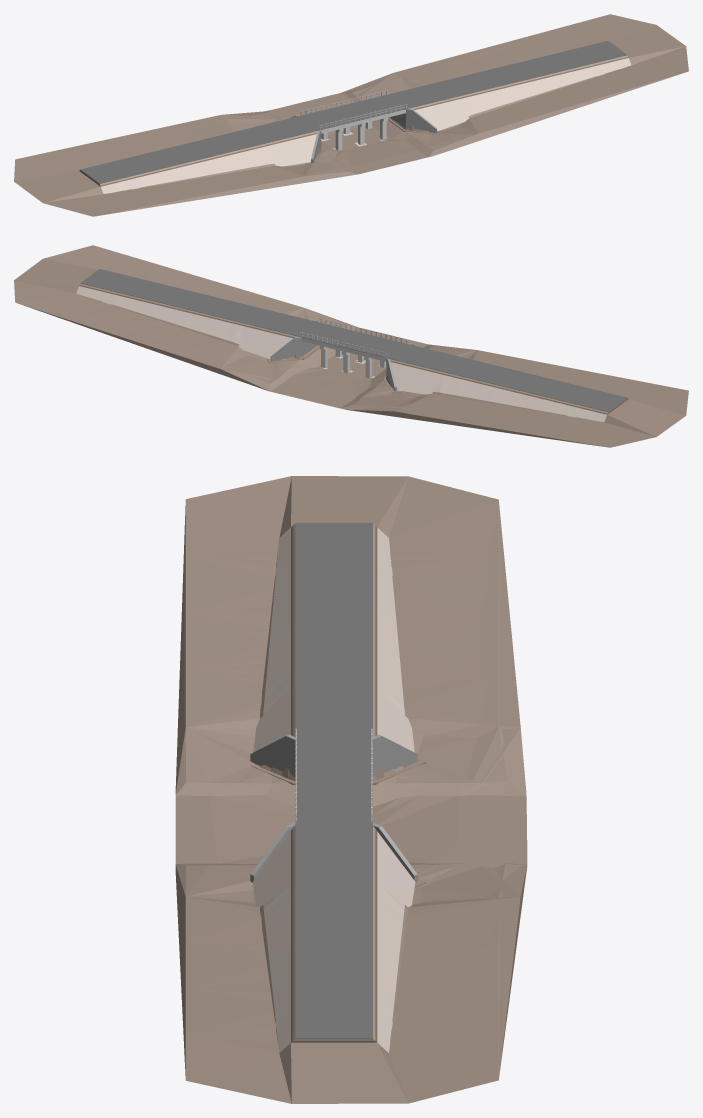
Rendered from bridge.glb.
3 renders of one model, top to bottom at view 1: azimuth 30°, elevation 25°; view 2: azimuth 150°, elevation 25°; view 3: azimuth 270°, elevation 25°, orthographic. The views are drawn at different scales.
Parts seen in each view (by area): view 1: 2JNiwP5Lz3hfLkpsuj7KEK, 0AnwhP9CL0vhVh8ehigX3U, 3rCCuWyRj1lQy1v8V$4KOV, 3rCCuWyRj1lQy1v8V$4KKs, 1XNlyhAOf76AZuAgs8k33u, 1XNlyhAOf76AZuAgs8k3UN, 3aili83xb91eEIT9d0z_ZM, 2qparF2_1B28fiTKBrzQFF, 2WNFBUhjbAQwMsa6TQ6DVj, 2qparF2_1B28fiTKBrzQDr, 2WNFBUhjbAQwMsa6TQ6DVx; view 2: 2JNiwP5Lz3hfLkpsuj7KEK, 0AnwhP9CL0vhVh8ehigX3U, 3rCCuWyRj1lQy1v8V$4KOV, 3rCCuWyRj1lQy1v8V$4KKs, 1XNlyhAOf76AZuAgs8k33u, 1XNlyhAOf76AZuAgs8k3UN, 3aili83xb91eEIT9d0z_ZM, 2qparF2_1B28fiTKBrzQFF, 2WNFBUhjbAQwMsa6TQ6DVj, 2qparF2_1B28fiTKBrzQDr, 2WNFBUhjbAQwMsa6TQ6DVx; view 3: 2JNiwP5Lz3hfLkpsuj7KEK, 3rCCuWyRj1lQy1v8V$4KOV, 0AnwhP9CL0vhVh8ehigX3U, 3rCCuWyRj1lQy1v8V$4KKs, 1XNlyhAOf76AZuAgs8k3UN, 1XNlyhAOf76AZuAgs8k33u, 2OCM1iJ7LAMv3l4$3XuGcz, 2WNFBUhjbAQwMsa6TQ6DVj, 2qparF2_1B28fiTKBrzQFF, 2WNFBUhjbAQwMsa6TQ6DVx, 2qparF2_1B28fiTKBrzQDr, 3aili83xb91eEIT9d0z_ZM.
Boxes of the visible parts, box(x1,y1,x2,y2) form: 2JNiwP5Lz3hfLkpsuj7KEK: box(14, 14, 688, 216); 0AnwhP9CL0vhVh8ehigX3U: box(80, 116, 319, 183); 3rCCuWyRj1lQy1v8V$4KOV: box(389, 41, 627, 108); 3rCCuWyRj1lQy1v8V$4KKs: box(300, 94, 407, 130); 1XNlyhAOf76AZuAgs8k33u: box(101, 134, 316, 193); 1XNlyhAOf76AZuAgs8k3UN: box(414, 58, 631, 130); 3aili83xb91eEIT9d0z_ZM: box(387, 92, 436, 132); 2qparF2_1B28fiTKBrzQFF: box(80, 131, 317, 185); 2WNFBUhjbAQwMsa6TQ6DVj: box(409, 55, 627, 109); 2qparF2_1B28fiTKBrzQDr: box(79, 133, 316, 186); 2WNFBUhjbAQwMsa6TQ6DVx: box(413, 57, 628, 109); 2JNiwP5Lz3hfLkpsuj7KEK: box(14, 245, 688, 447); 0AnwhP9CL0vhVh8ehigX3U: box(388, 344, 627, 411); 3rCCuWyRj1lQy1v8V$4KOV: box(80, 269, 318, 336); 3rCCuWyRj1lQy1v8V$4KKs: box(300, 322, 407, 358); 1XNlyhAOf76AZuAgs8k33u: box(391, 362, 606, 421); 1XNlyhAOf76AZuAgs8k3UN: box(76, 286, 292, 358); 3aili83xb91eEIT9d0z_ZM: box(270, 320, 320, 361); 2qparF2_1B28fiTKBrzQFF: box(390, 359, 627, 413); 2WNFBUhjbAQwMsa6TQ6DVj: box(79, 283, 297, 337); 2qparF2_1B28fiTKBrzQDr: box(390, 361, 628, 414); 2WNFBUhjbAQwMsa6TQ6DVx: box(79, 285, 294, 338); 2JNiwP5Lz3hfLkpsuj7KEK: box(175, 476, 527, 1103); 3rCCuWyRj1lQy1v8V$4KOV: box(295, 824, 372, 1038); 0AnwhP9CL0vhVh8ehigX3U: box(295, 523, 372, 737); 3rCCuWyRj1lQy1v8V$4KKs: box(295, 737, 372, 823); 1XNlyhAOf76AZuAgs8k3UN: box(252, 831, 415, 1052); 1XNlyhAOf76AZuAgs8k33u: box(253, 527, 414, 752); 2OCM1iJ7LAMv3l4$3XuGcz: box(250, 734, 417, 777); 2WNFBUhjbAQwMsa6TQ6DVj: box(292, 825, 375, 1040); 2qparF2_1B28fiTKBrzQFF: box(292, 524, 375, 736); 2WNFBUhjbAQwMsa6TQ6DVx: box(291, 829, 377, 1042); 2qparF2_1B28fiTKBrzQDr: box(291, 526, 377, 735); 3aili83xb91eEIT9d0z_ZM: box(250, 822, 417, 882).
Size of the model in its own units: 122 by 6.6 by 28.87.
